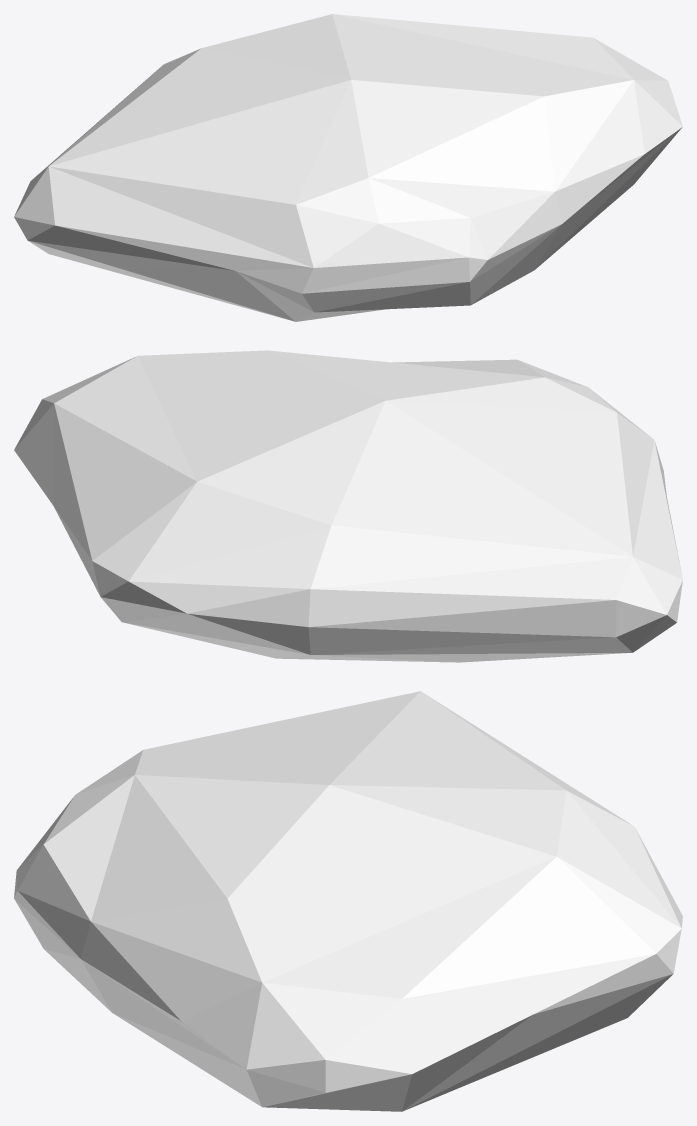
The model's file is Rock 10.FBX.
The picture shows the model from 3 angles, top to bottom: view 1: azimuth 30°, elevation 25°; view 2: azimuth 150°, elevation 25°; view 3: azimuth 270°, elevation 25°; orthographic projection. The views are drawn at different scales.
Visible parts, largest first — view 1: Box001; view 2: Box001; view 3: Box001.
Boxes of the visible parts, x1=… form: Box001: x1=14, y1=14, x2=682, y2=321; Box001: x1=14, y1=350, x2=682, y2=662; Box001: x1=14, y1=691, x2=682, y2=1111.
Size of the model in its own units: 50.7 by 14.77 by 40.02.
